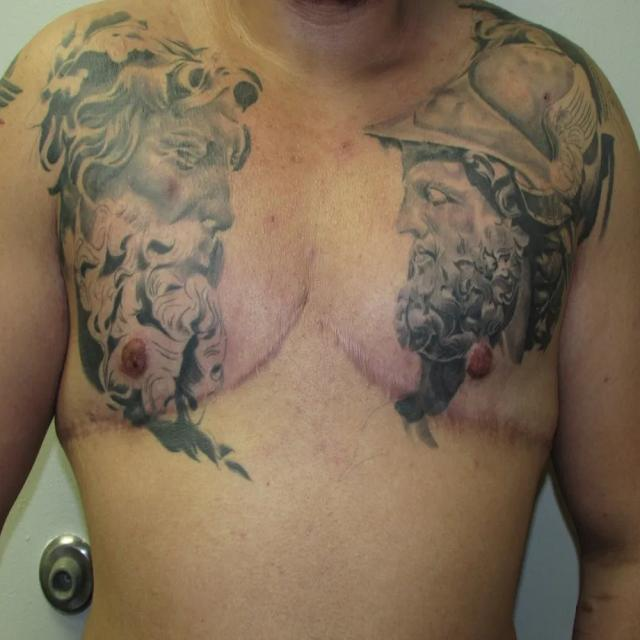Seno herido: (316, 232, 560, 474), (55, 231, 310, 462)
